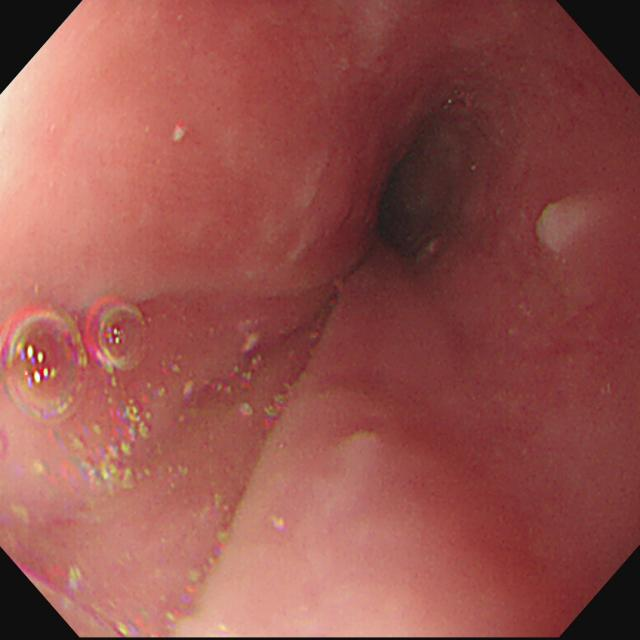E: (385, 154, 450, 250)
J: (260, 153, 332, 265), (340, 2, 402, 75), (535, 194, 593, 253), (338, 431, 391, 478), (240, 317, 264, 352), (172, 123, 188, 144)
T: (2, 298, 150, 426)
U: (66, 404, 153, 496), (182, 356, 265, 407), (24, 367, 57, 388), (19, 343, 46, 365)
